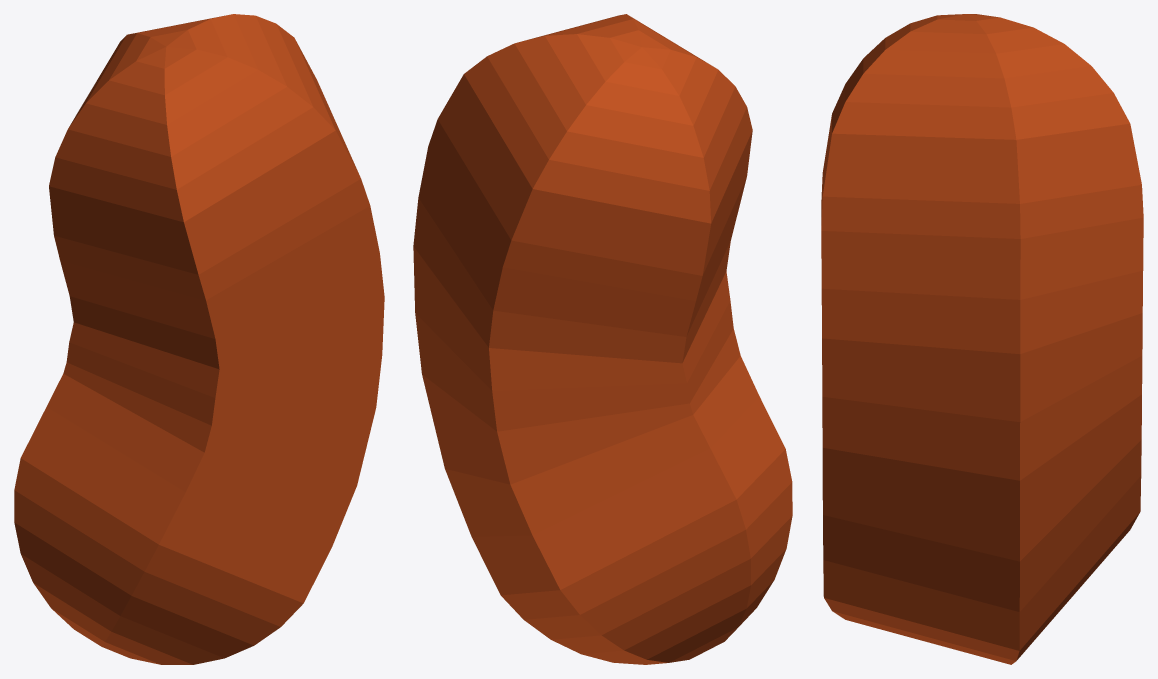
Rendered from Seed.fbx.
3 renders of one model, left to right at view 1: azimuth 30°, elevation 25°; view 2: azimuth 150°, elevation 25°; view 3: azimuth 270°, elevation 25°, orthographic. The views are drawn at different scales.
Parts seen in each view (by area): view 1: Seed; view 2: Seed; view 3: Seed.
Boxes of the visible parts, left/top/right/bottom form: Seed: left=14, top=14, right=384, bottom=664; Seed: left=413, top=14, right=792, bottom=664; Seed: left=821, top=14, right=1143, bottom=664.
Size of the model in its own units: 224 by 395 by 181.
